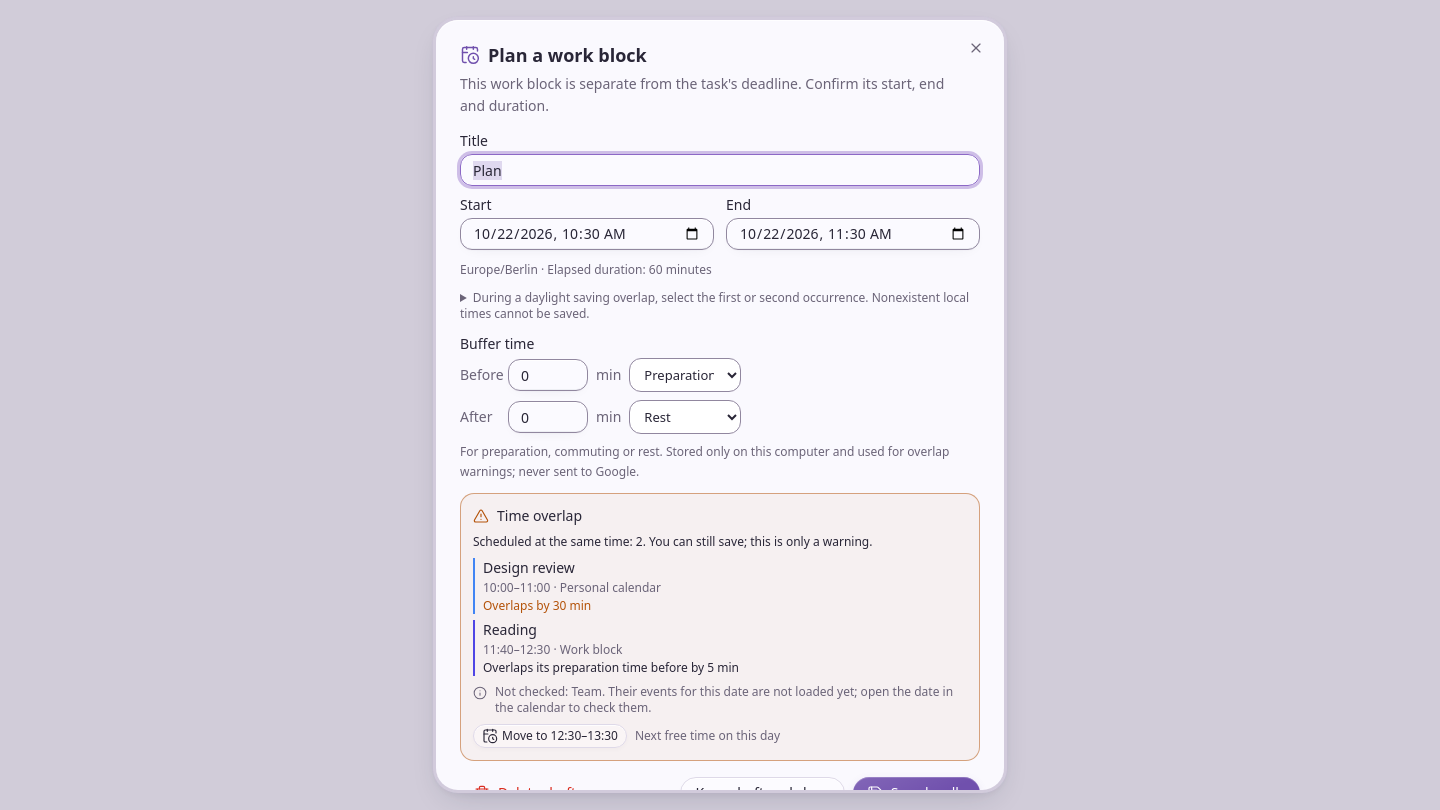
Test: overlap warning and buffers in the calendar editor › names what overlaps, says what was not checked and moves to the next free slot
Expected: the message "Time overlap" shows "Overlaps its preparation time before by 5 min", top-left (483, 659), bottom-right (739, 676)
Expected: the message "Time overlap" shows "Not checked: Team.", top-left (495, 683), bottom-right (953, 716)
Click the button "Move to 12:30–13:30" at (550, 736), box top-left (473, 724), bottom-right (627, 748)
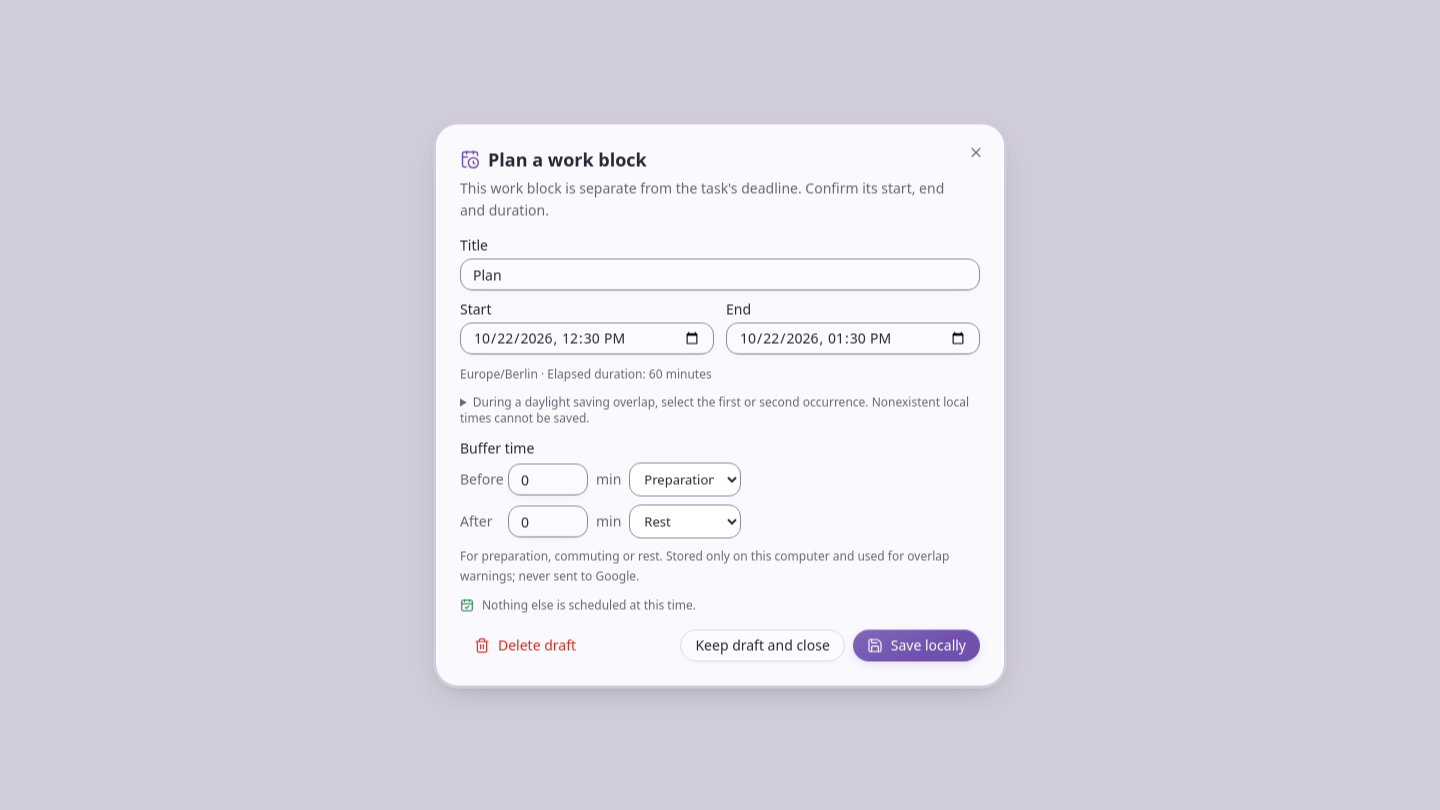
Expected: the field labelled "Start" holds "2026-10-22T12:30", top-left (460, 322), bottom-right (714, 354)
Expected: the field labelled "End" holds "2026-10-22T13:30", top-left (726, 322), bottom-right (980, 354)
Expected: the text "Nothing else is scheduled at this time." is shown, top-left (460, 596), bottom-right (696, 614)
